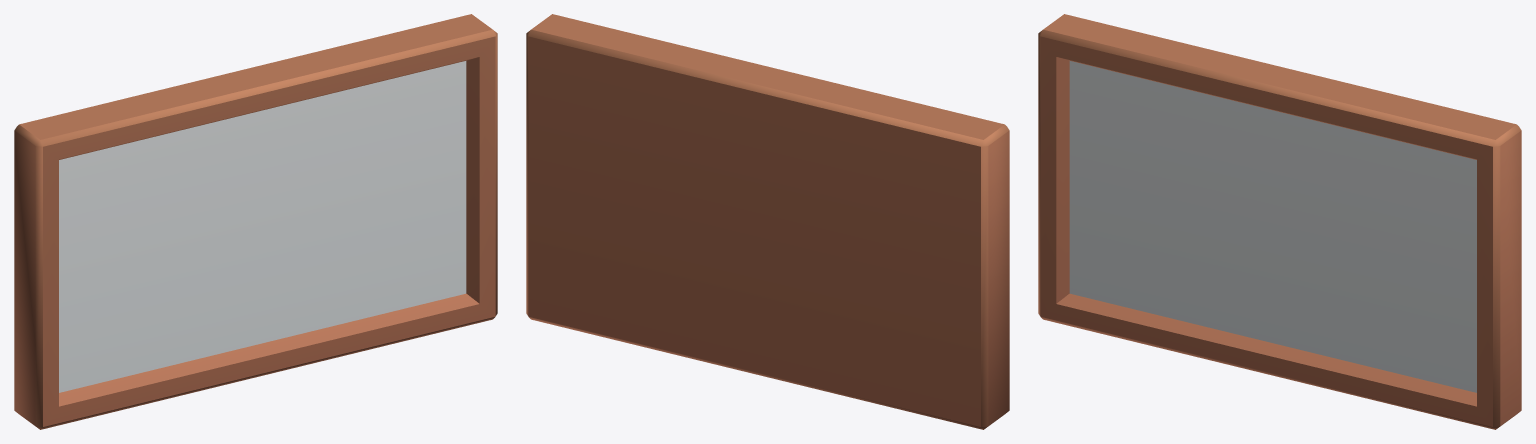
3 renders of one model, left to right at view 1: azimuth 30°, elevation 25°; view 2: azimuth 150°, elevation 25°; view 3: azimuth 330°, elevation 25°, orthographic.
Parts seen in each view (by area): view 1: pictureframe_large_B; view 2: pictureframe_large_B; view 3: pictureframe_large_B.
Boxes of the visible parts, x1=… form: pictureframe_large_B: x1=14, y1=14, x2=497, y2=429; pictureframe_large_B: x1=526, y1=14, x2=1009, y2=429; pictureframe_large_B: x1=1038, y1=14, x2=1521, y2=429.
Bounding box in the file's own units: 2 × 1.2 × 0.2.
1 material, 1 textured.
